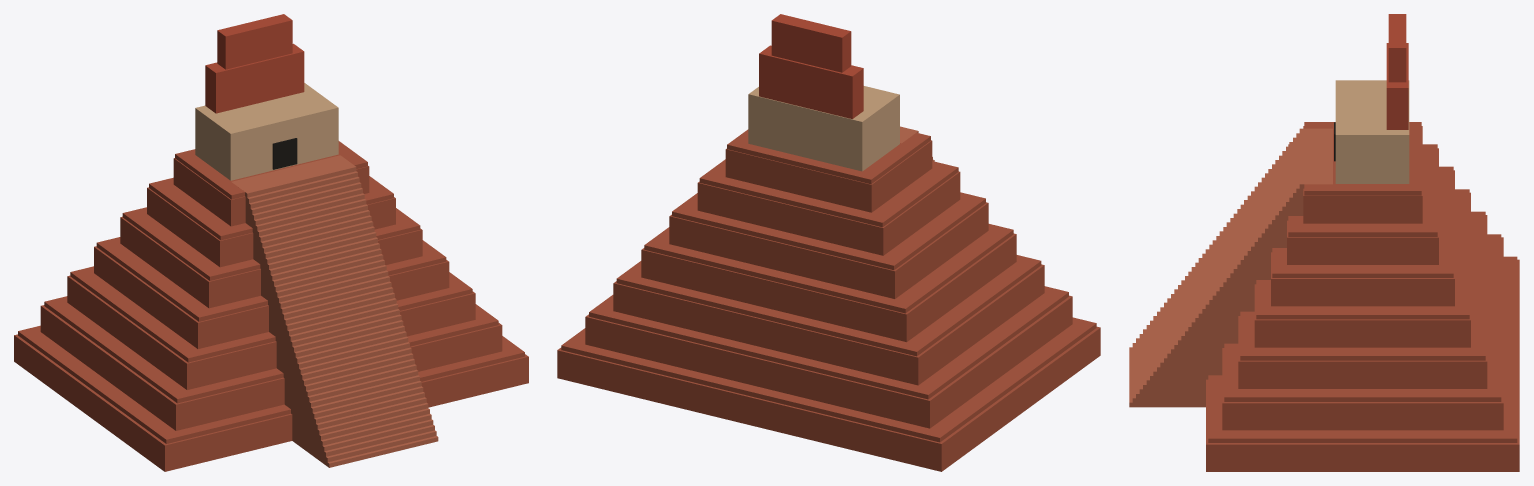
Rendered from meso-tikal-t4.glb.
3 renders of one model, left to right at view 1: azimuth 30°, elevation 25°; view 2: azimuth 150°, elevation 25°; view 3: azimuth 270°, elevation 25°, orthographic. The views are drawn at different scales.
Visible parts, largest first — view 1: meso-body, meso-stair, meso-shrine, meso-comb, meso-door; view 2: meso-body, meso-shrine, meso-comb; view 3: meso-body, meso-stair, meso-shrine, meso-comb.
Boxes of the visible parts, bbox=[...] form: meso-body: bbox=[14, 141, 528, 471]; meso-stair: bbox=[231, 155, 438, 467]; meso-shrine: bbox=[195, 83, 338, 180]; meso-comb: bbox=[205, 14, 304, 113]; meso-door: bbox=[272, 138, 297, 169]; meso-body: bbox=[557, 129, 1100, 471]; meso-shrine: bbox=[748, 86, 899, 171]; meso-comb: bbox=[759, 14, 863, 118]; meso-body: bbox=[1206, 122, 1519, 471]; meso-stair: bbox=[1129, 128, 1332, 407]; meso-shrine: bbox=[1335, 80, 1409, 183]; meso-comb: bbox=[1386, 14, 1408, 129].
Size of the model in its own units: 79.6 by 70 by 71.09.
